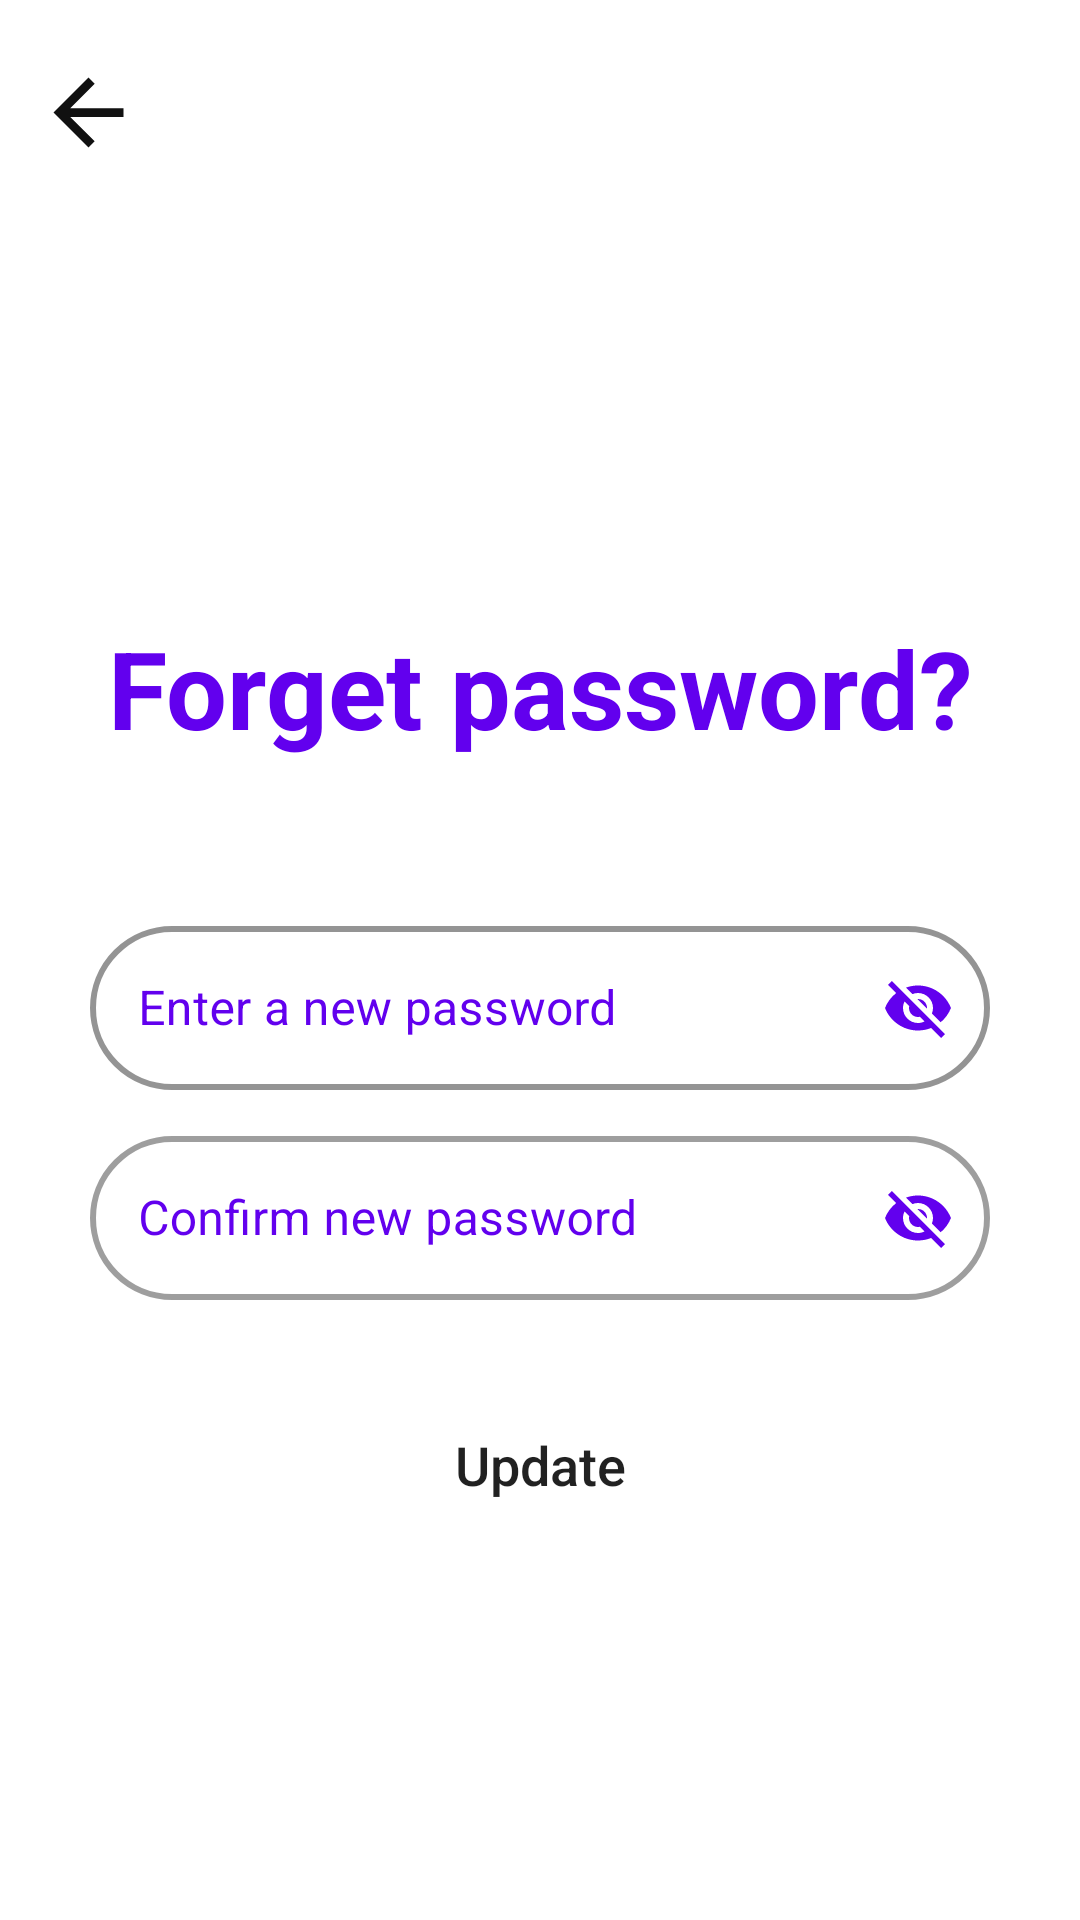

Where to tap for icons on this 1080w x 1920h app screen, as point (x, y):
arrow back: point (88, 112)
